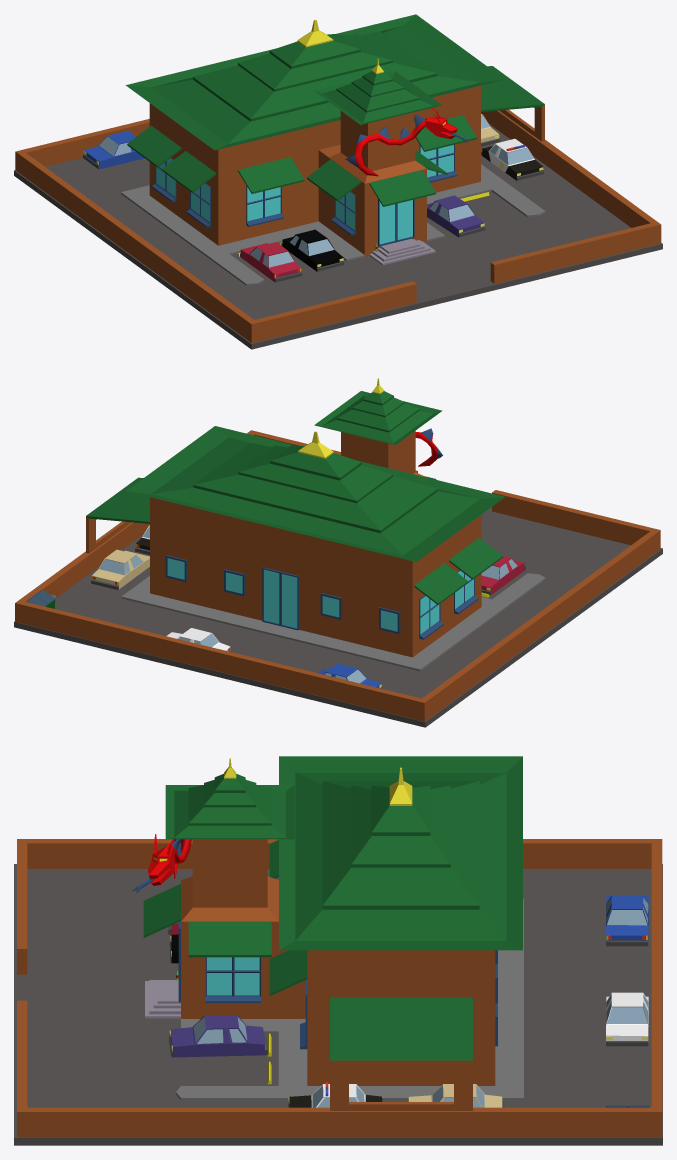
The model's file is AsianFastFood.fbx.
The picture shows the model from 3 angles, top to bottom: view 1: azimuth 30°, elevation 25°; view 2: azimuth 150°, elevation 25°; view 3: azimuth 270°, elevation 25°; orthographic projection. The views are drawn at different scales.
Parts seen in each view (by area): view 1: MAG_T2_16_PERRONE_01.001, MAG_T2_16_PERRONE_01, Car.005, Police_Car, Car, Car.001, Car.003; view 2: MAG_T2_16_PERRONE_01.001, MAG_T2_16_PERRONE_01, Car.002, Car, Car.003, Car.004; view 3: MAG_T2_16_PERRONE_01.001, MAG_T2_16_PERRONE_01, Car.001, Car.004, Car.003, Police_Car, Car.002.
Part boxes in pixels (x1=…): MAG_T2_16_PERRONE_01.001: x1=15, y1=14, x2=661, y2=342; MAG_T2_16_PERRONE_01: x1=14, y1=124, x2=662, y2=349; Car.005: x1=281, y1=229, x2=344, y2=271; Police_Car: x1=481, y1=138, x2=543, y2=180; Car: x1=240, y1=242, x2=302, y2=282; Car.001: x1=427, y1=195, x2=485, y2=237; Car.003: x1=83, y1=130, x2=144, y2=169; MAG_T2_16_PERRONE_01.001: x1=15, y1=378, x2=660, y2=721; MAG_T2_16_PERRONE_01: x1=14, y1=507, x2=662, y2=727; Car.002: x1=91, y1=549, x2=149, y2=589; Car: x1=481, y1=556, x2=525, y2=595; Car.003: x1=318, y1=663, x2=382, y2=688; Car.004: x1=166, y1=628, x2=232, y2=652; MAG_T2_16_PERRONE_01.001: x1=17, y1=756, x2=662, y2=1137; MAG_T2_16_PERRONE_01: x1=14, y1=864, x2=662, y2=1145; Car.001: x1=169, y1=1015, x2=267, y2=1057; Car.004: x1=606, y1=992, x2=648, y2=1046; Car.003: x1=606, y1=895, x2=648, y2=946; Police_Car: x1=288, y1=1082, x2=382, y2=1107; Car.002: x1=408, y1=1084, x2=504, y2=1107.
Bounding box in the file's own units: 400 × 170 × 400.
